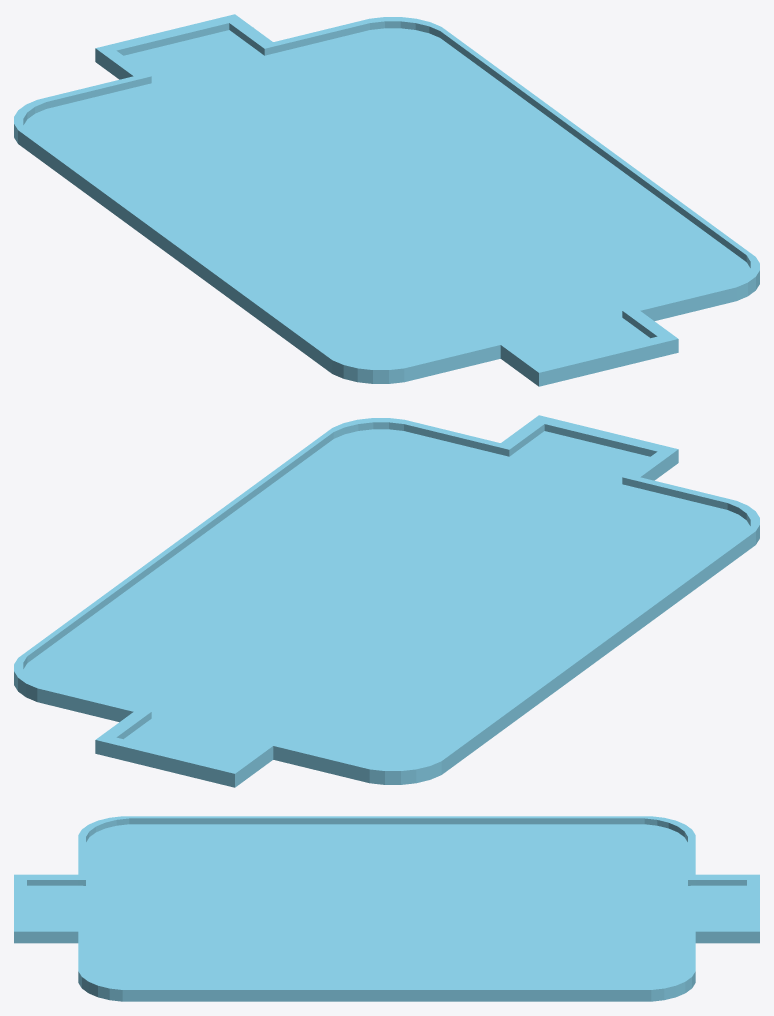
File: Field.gltf
3 views of the same model, one above another, from view 1: azimuth 30°, elevation 25°; view 2: azimuth 150°, elevation 25°; view 3: azimuth 270°, elevation 25° (orthographic). The views are drawn at different scales.
Visible parts, largest first — view 1: Field; view 2: Field; view 3: Field.
Boxes of the visible parts, x1,y1,x2,y2 form: Field: (14, 14, 759, 386); Field: (14, 415, 759, 787); Field: (14, 816, 759, 1001).
Bounding box in the file's own units: 31.93 × 1 × 57.93.
